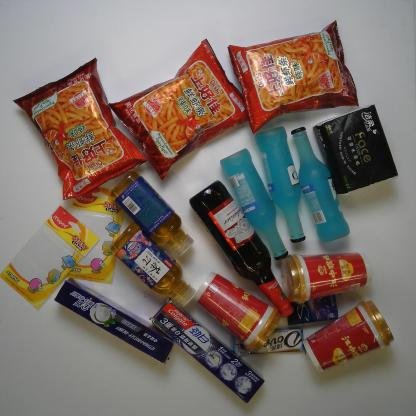Alcohol: (192, 180, 296, 320), (220, 148, 287, 260), (292, 126, 350, 244), (257, 125, 308, 243)
Chocolate: (229, 328, 306, 356)
Drink: (111, 223, 197, 307), (111, 172, 192, 259)
Gum: (284, 288, 338, 326)
Instant Drink: (193, 271, 283, 354), (301, 299, 395, 372), (281, 250, 370, 305)
Personal Hygiene: (153, 300, 264, 404), (54, 278, 174, 364)
Puffed Food: (107, 37, 252, 181), (13, 58, 148, 200), (227, 19, 358, 133)
Stationery: (0, 204, 99, 310), (58, 180, 128, 283)
Tissue: (312, 105, 397, 195)
